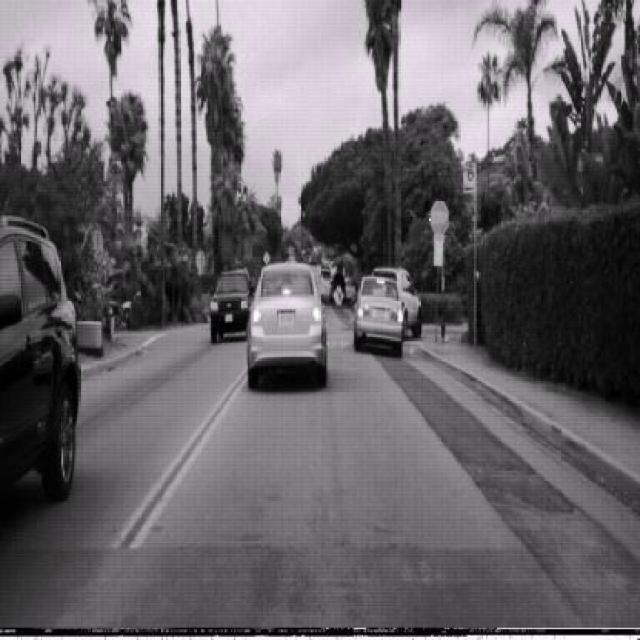stop: (429, 198, 449, 236)
